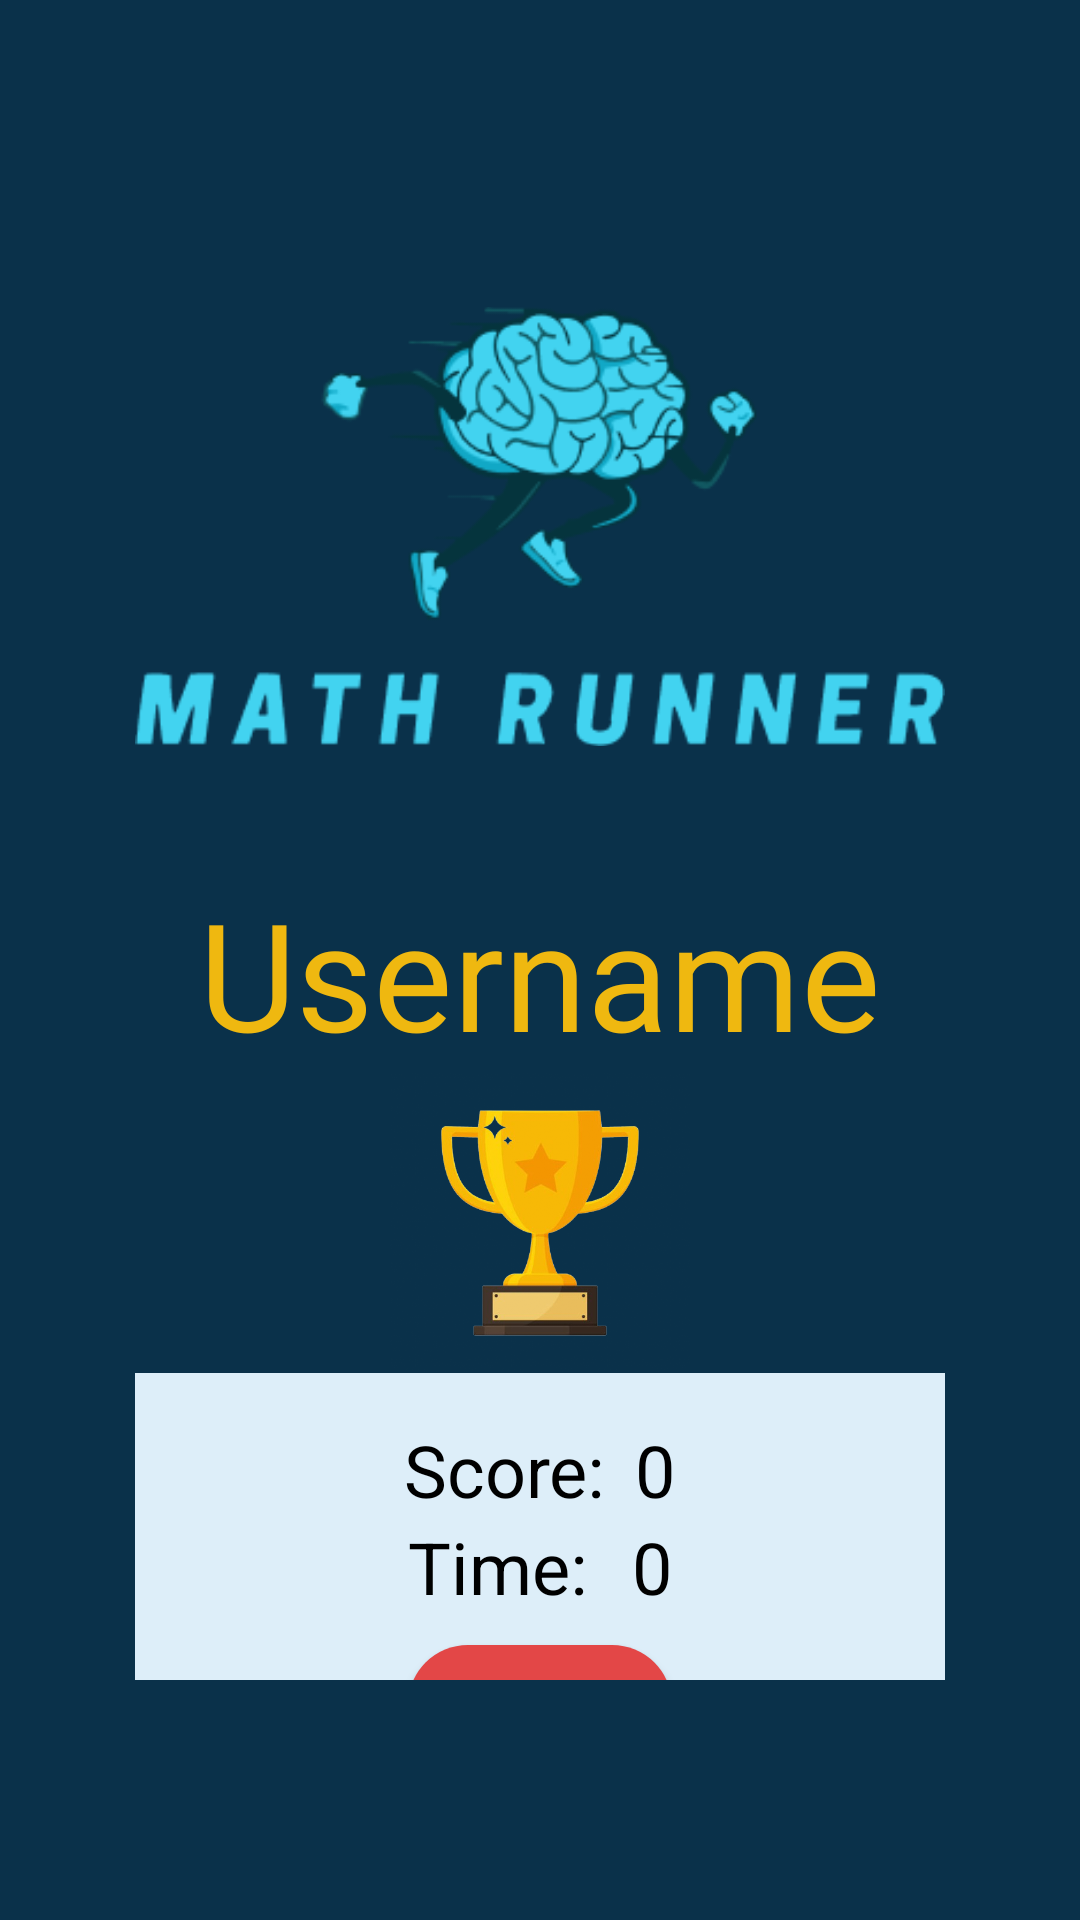

Point at icon controls on the screen. Image size 1080*1920, points as (x=x, y=y).
trophy: (x=540, y=1223)
